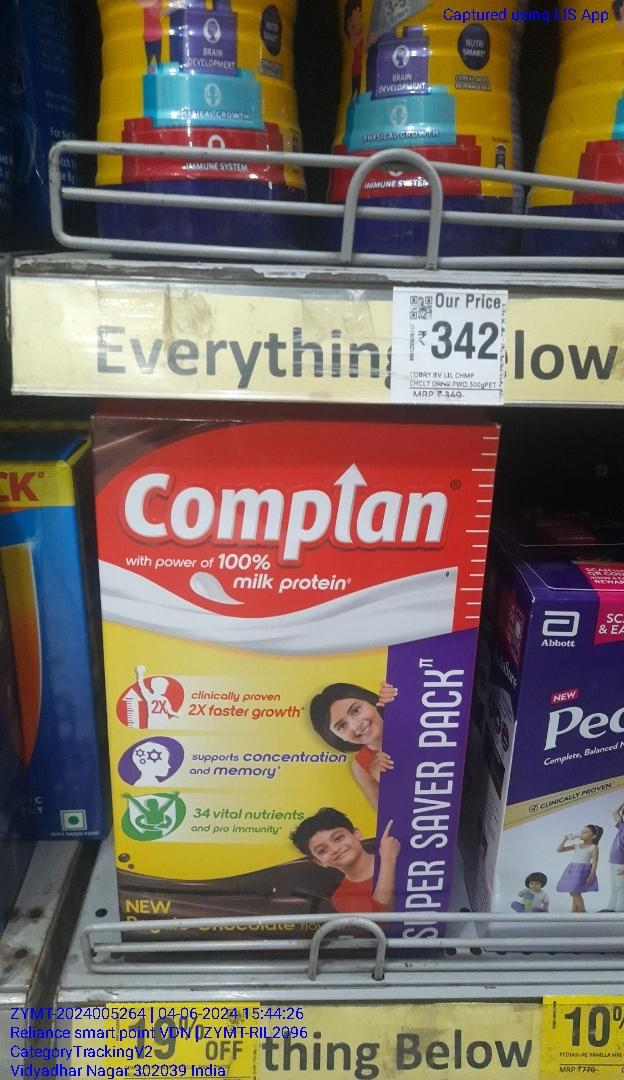COMPLAN_CHOCOLATE_1_KG_PACK: (100, 418, 474, 967)
